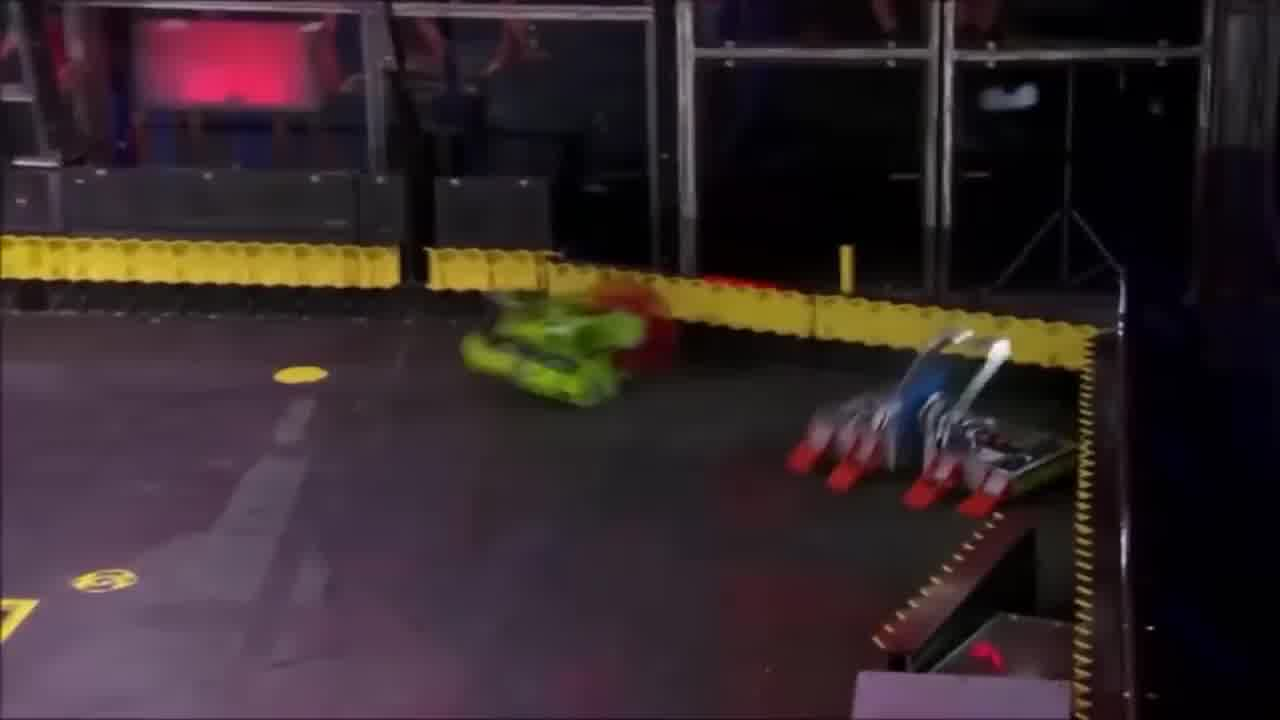combatbot: (791, 328, 1079, 517), (459, 277, 674, 414)
